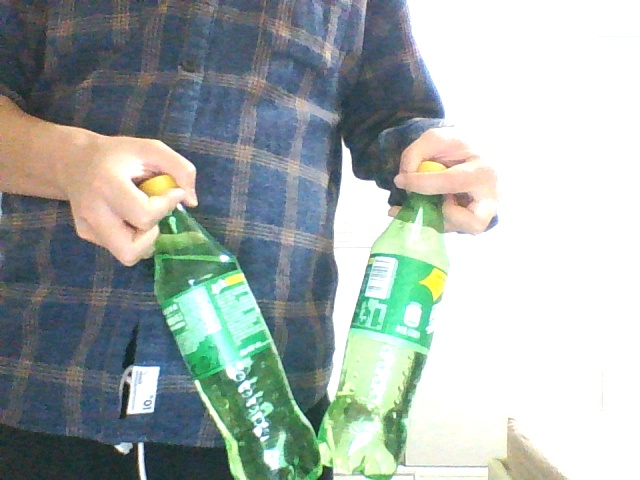Sprite: (140, 176, 321, 479), (317, 160, 447, 479)
